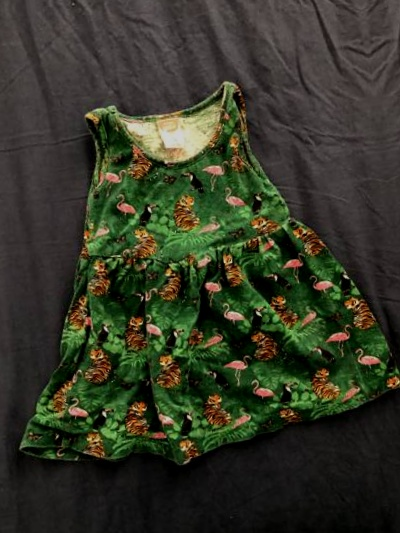Dress: (0, 56, 400, 506), (382, 0, 400, 444)
